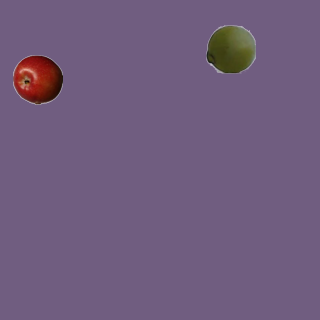Apple Braeburn: (12, 54, 62, 104)
Grape White 4: (205, 23, 255, 73)
